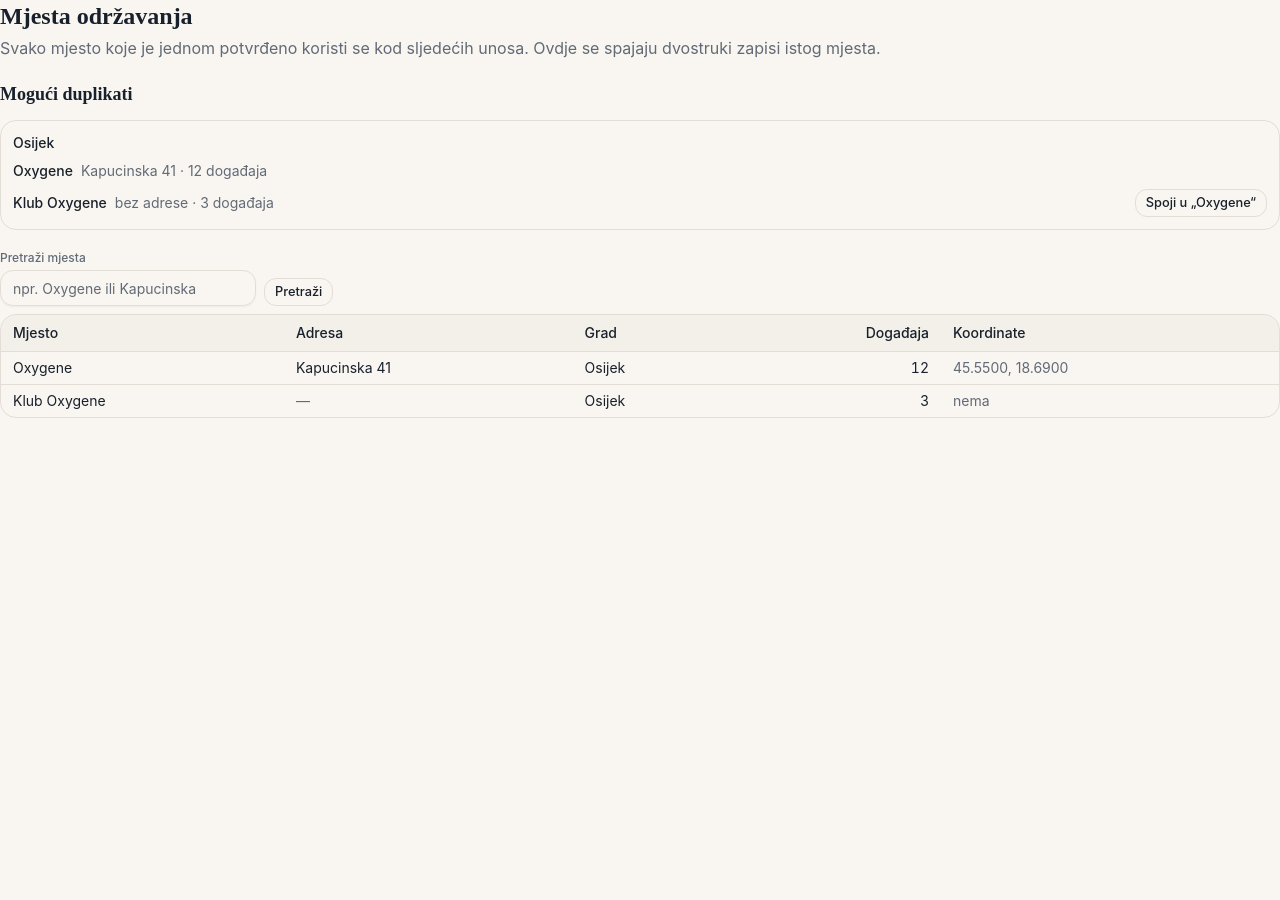
Scenario: venues admin page › abandons the merge when told to
Click the button "Spoji u „Oxygene“": (1201, 203) [1135,189,1267,217]
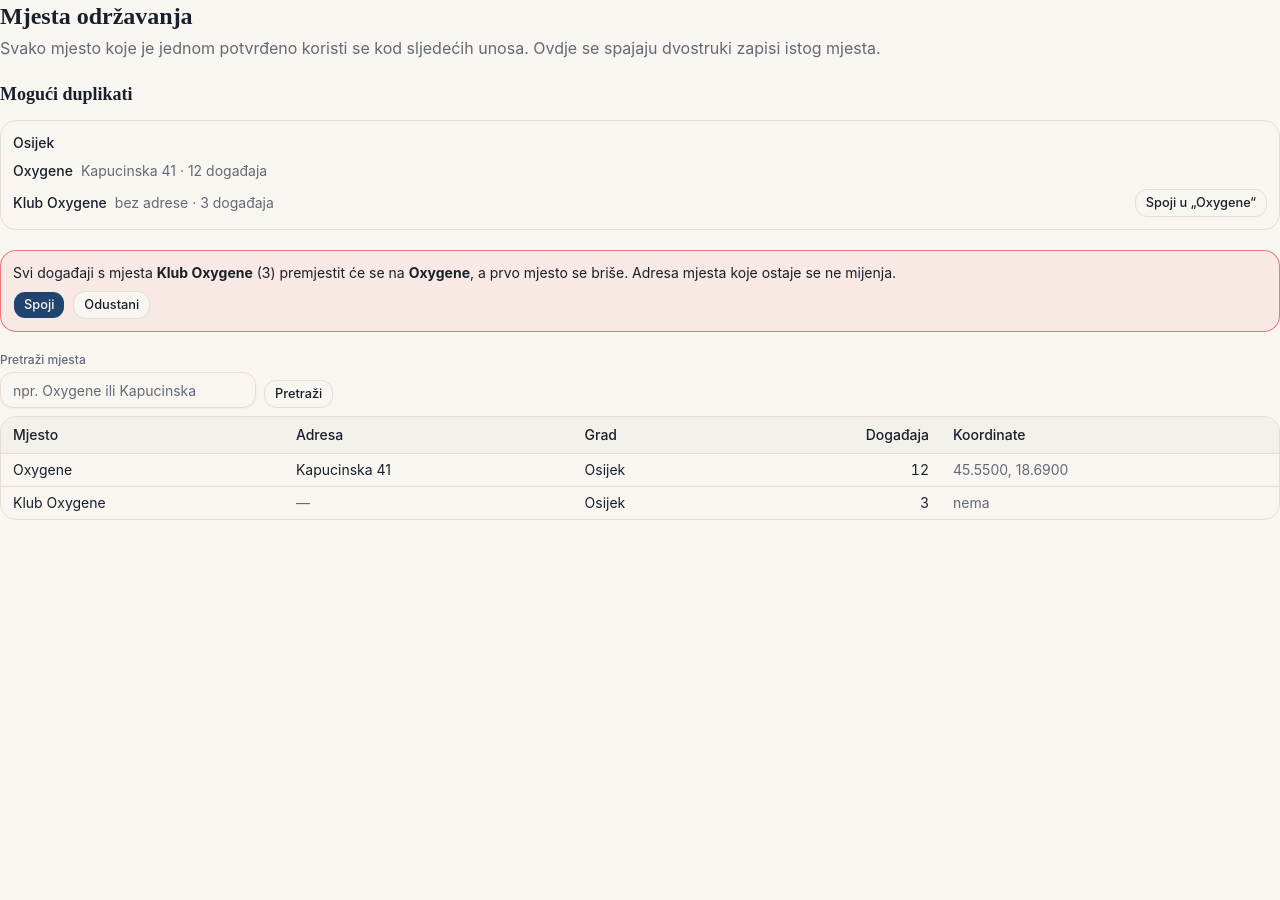
expect the button "Odustani" is shown: met
Click the button "Odustani": (112, 305) [73,291,150,319]
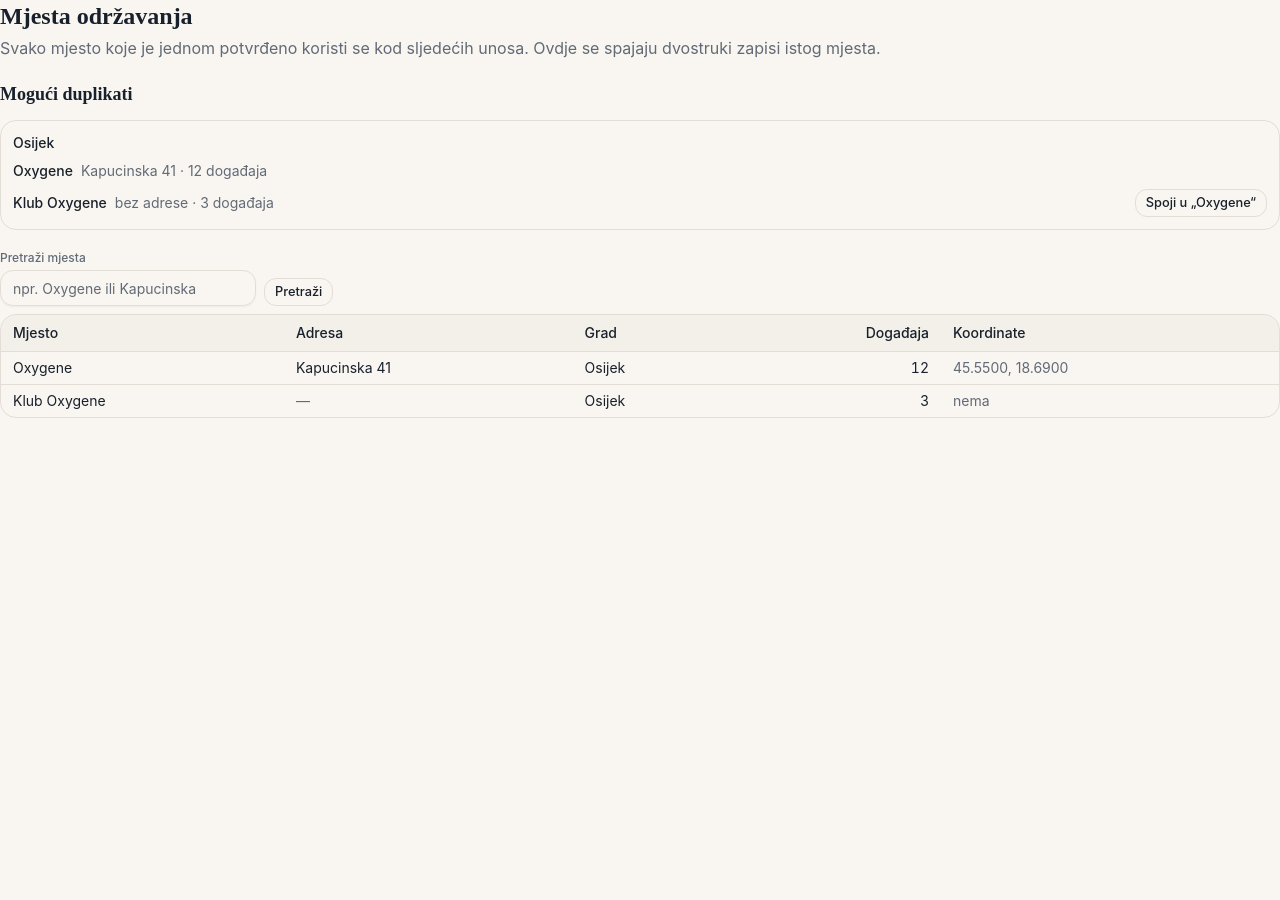
expect the dialog is gone: met
